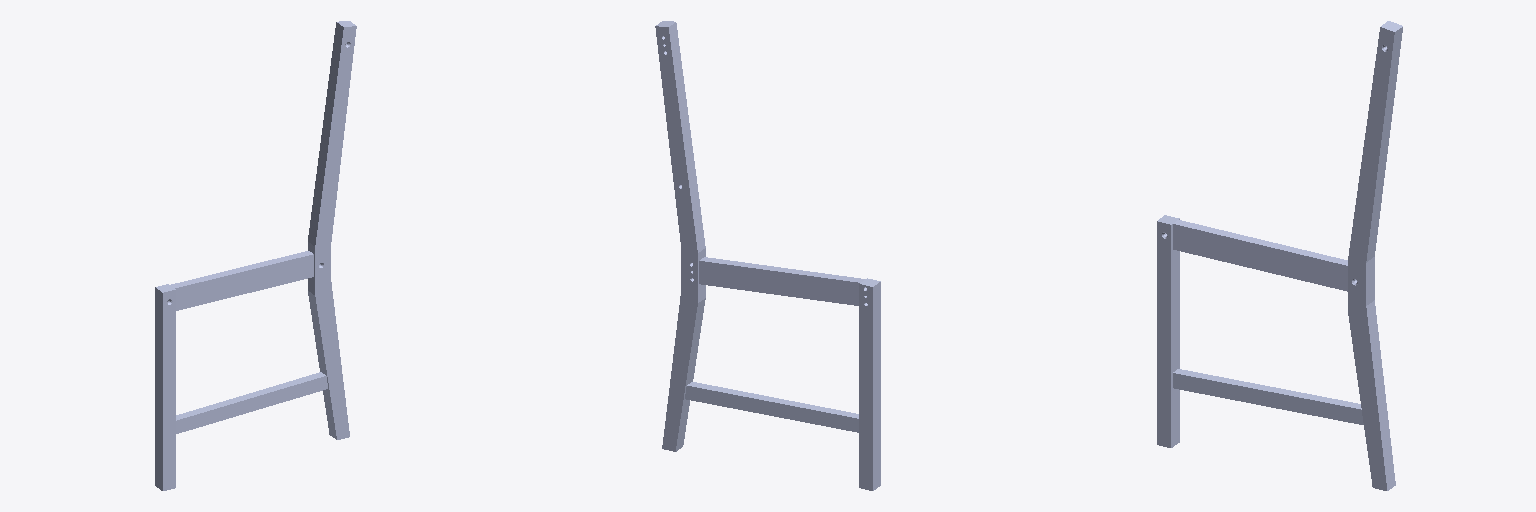
The robot description file, URDF, robot "reverse_part5":
<?xml version="1.0" encoding="utf-8"?>
<!-- This URDF was automatically created by SolidWorks to URDF Exporter! Originally created by [author] ([email redacted]) 
     Commit Version: 1.5.1-0-g916b5db  Build Version: 1.5.7152.31018
     For more information, please see http://wiki.ros.org/sw_urdf_exporter -->
<robot name="reverse_part5">
  <link
    name="reverse_part5">
    <inertial>
      <origin
        xyz="0.25265 0.022466 0.35064"
        rpy="0 0 0" />
      <mass
        value="1.8822" />
      <inertia
        ixx="0.092184"
        ixy="-0.0046305"
        ixz="-0.028222"
        iyy="0.14409"
        iyz="0.00238449999999999"
        izz="0.052969" />
    </inertial>
    <visual>
      <origin
        xyz="0 0 0"
        rpy="1.5707963267949 0 0" />
      <geometry>
        <mesh
          filename="package://cai_env/meshes/reverse_part5.STL" />
      </geometry>
      <material
        name="">
        <color
          rgba="0.79216 0.81961 0.93333 1" />
        <texture
          filename="package://cai_env/textures/" />
      </material>
    </visual>
    <collision>
      <origin
        xyz="0 0 0"
        rpy="1.5707963267949 0 0" />
      <geometry>
        <mesh
          filename="package://cai_env/meshes/reverse_part5.STL" />
      </geometry>
    </collision>
  </link>
  <gazebo reference="reverse_part5">
    <material>Gazebo/SkyBlue</material>
  </gazebo>
</robot>

--- Render facts (derived) ---
Views: 3 orthographic renders of the robot side by side, from view 1: azimuth 30°, elevation 25°; view 2: azimuth 150°, elevation 25°; view 3: azimuth 330°, elevation 25°.
Model reverse_part5 with 1 links and 0 joints (none), rooted at reverse_part5, posed all joints at 0.
Links seen in each view (by area): view 1: reverse_part5; view 2: reverse_part5; view 3: reverse_part5.
Boxes of the visible links, box(x1,y1,x2,y2) form: reverse_part5: box(155, 21, 356, 490); reverse_part5: box(655, 21, 880, 490); reverse_part5: box(1157, 21, 1402, 490).
Bounding box of the posed robot: 0.4647 × 0.065 × 0.9006 m (x, y, z).
1 mesh visuals loaded from 1 distinct referenced files (1 binary STL).
